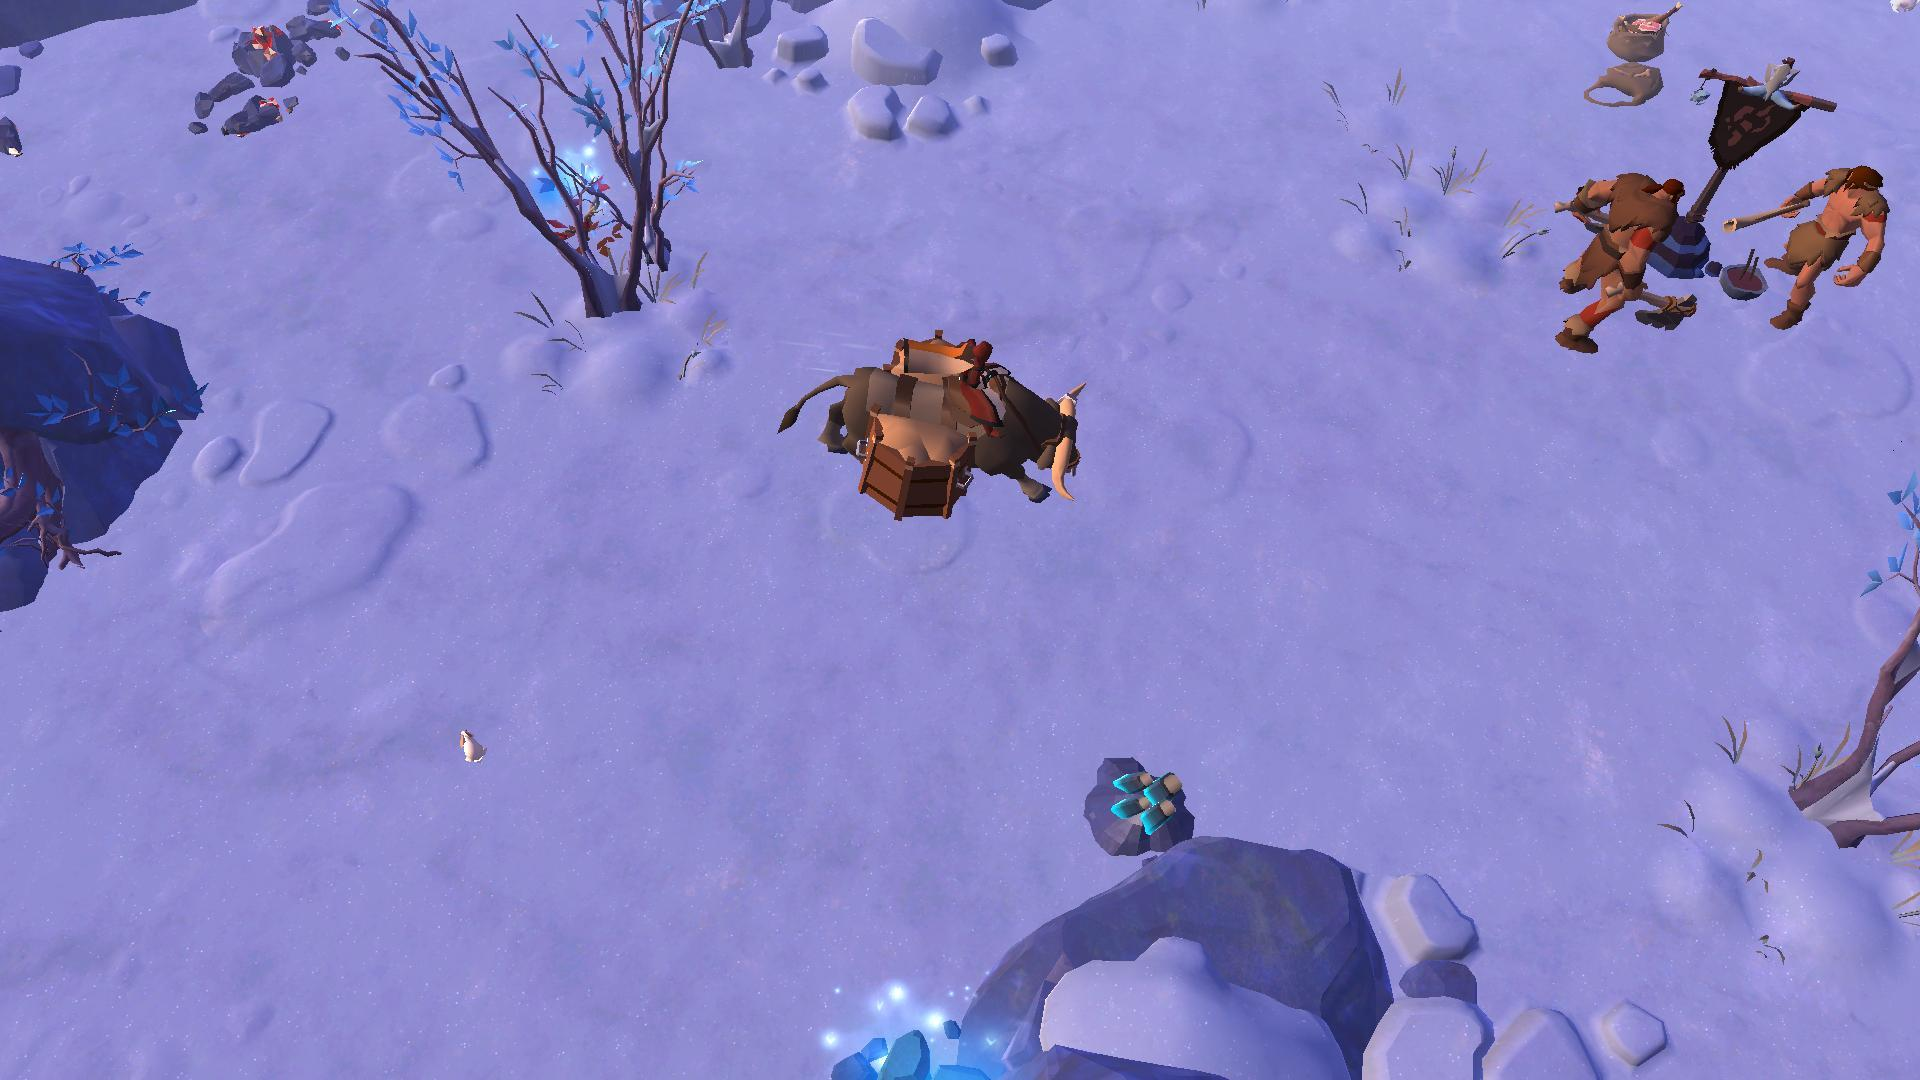enemy_factionKeeper: (1730, 152, 1896, 336), (1549, 166, 1691, 367)
ore_t4: (1102, 758, 1191, 837)
